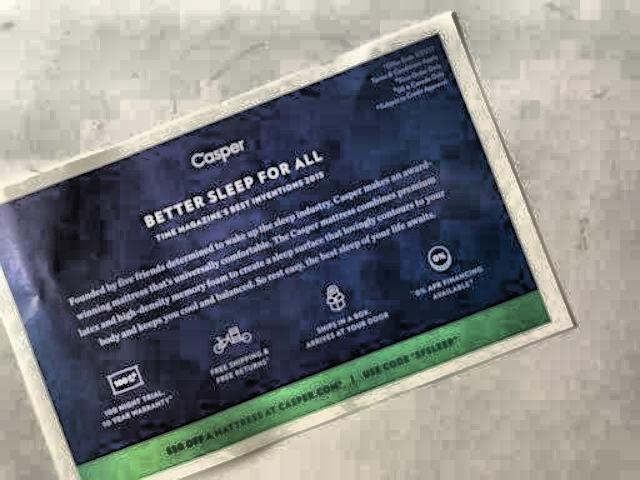Paper: (0, 4, 585, 480)
